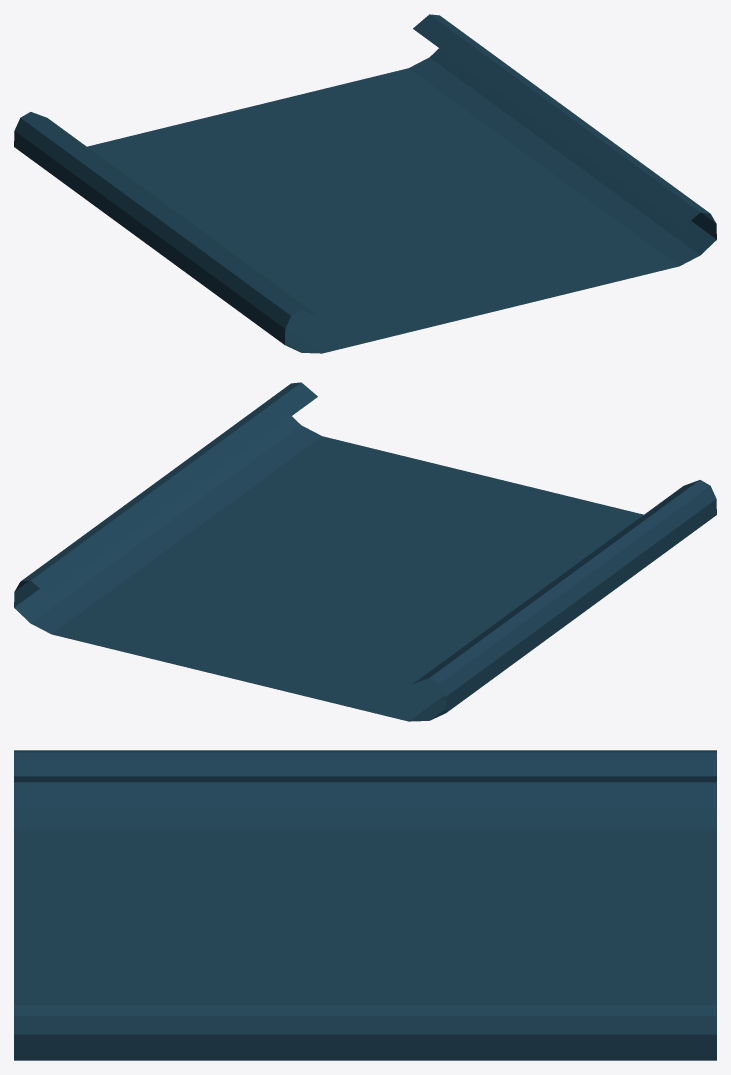
The model's file is Blueprint.fbx.
3 renders of one model, top to bottom at view 1: azimuth 30°, elevation 25°; view 2: azimuth 150°, elevation 25°; view 3: azimuth 270°, elevation 25°, orthographic. The views are drawn at different scales.
Visible parts, largest first — view 1: Blueprint; view 2: Blueprint; view 3: Blueprint.
Part boxes in pixels (x1,y1,x2,y2): Blueprint: (14, 14, 716, 353); Blueprint: (14, 382, 716, 721); Blueprint: (14, 750, 716, 1060).
Bounding box in the file's own units: 184 × 19.85 × 200.
